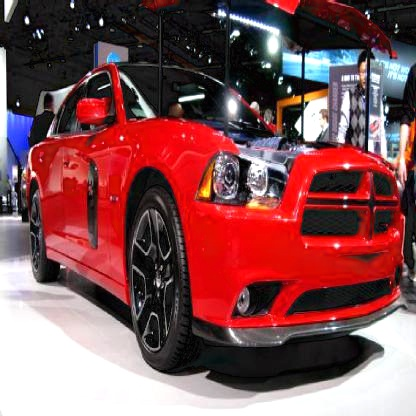Vehicle: (26, 61, 404, 375)
